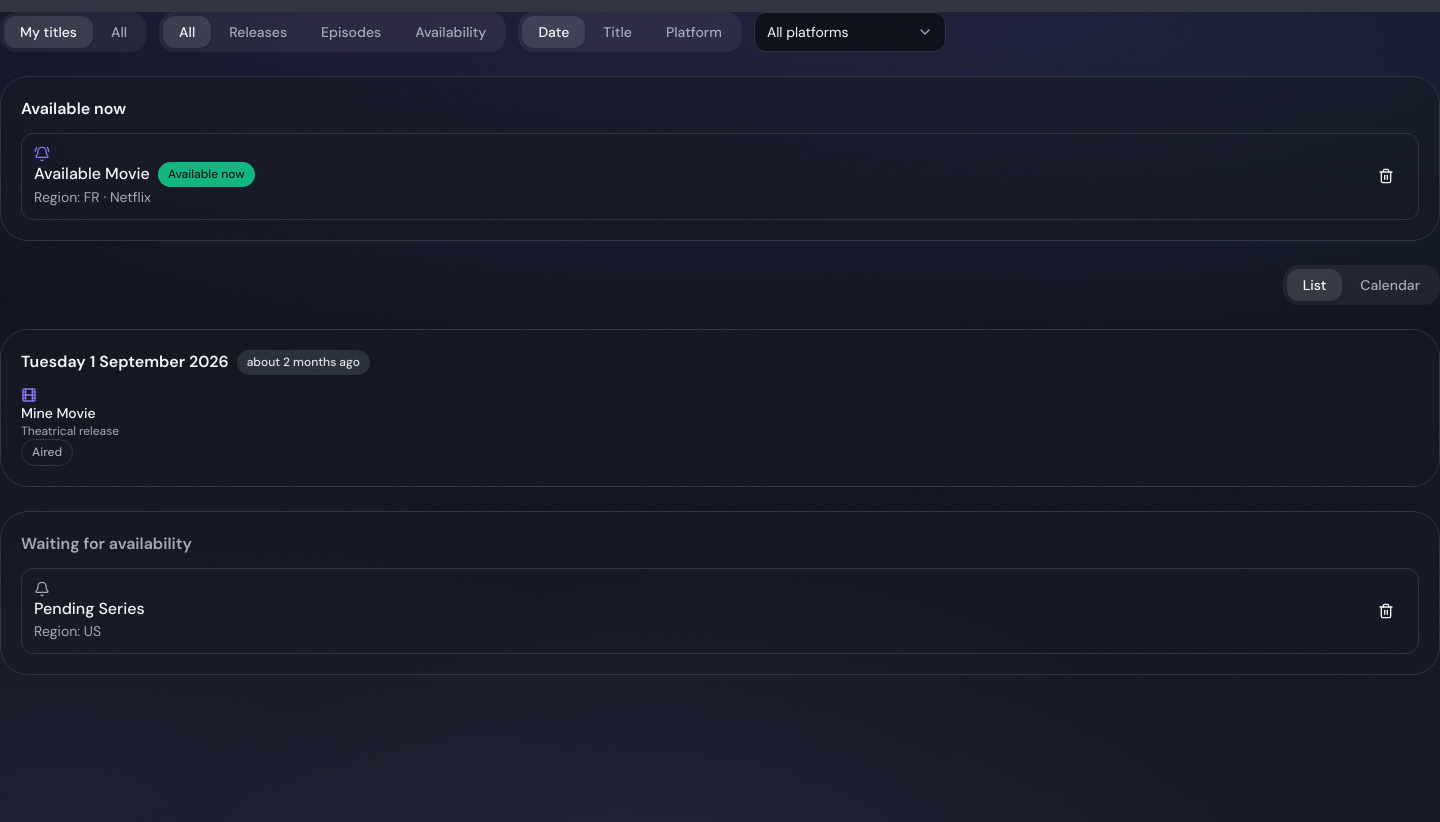
it: TrackingList › groups availability entries into available-now and pending, and dated entries by date
What coordinates should you click on to do the following:
click the 1st button "All"
I would click on:
 (119, 32)
Its box is [95,16,143,48].
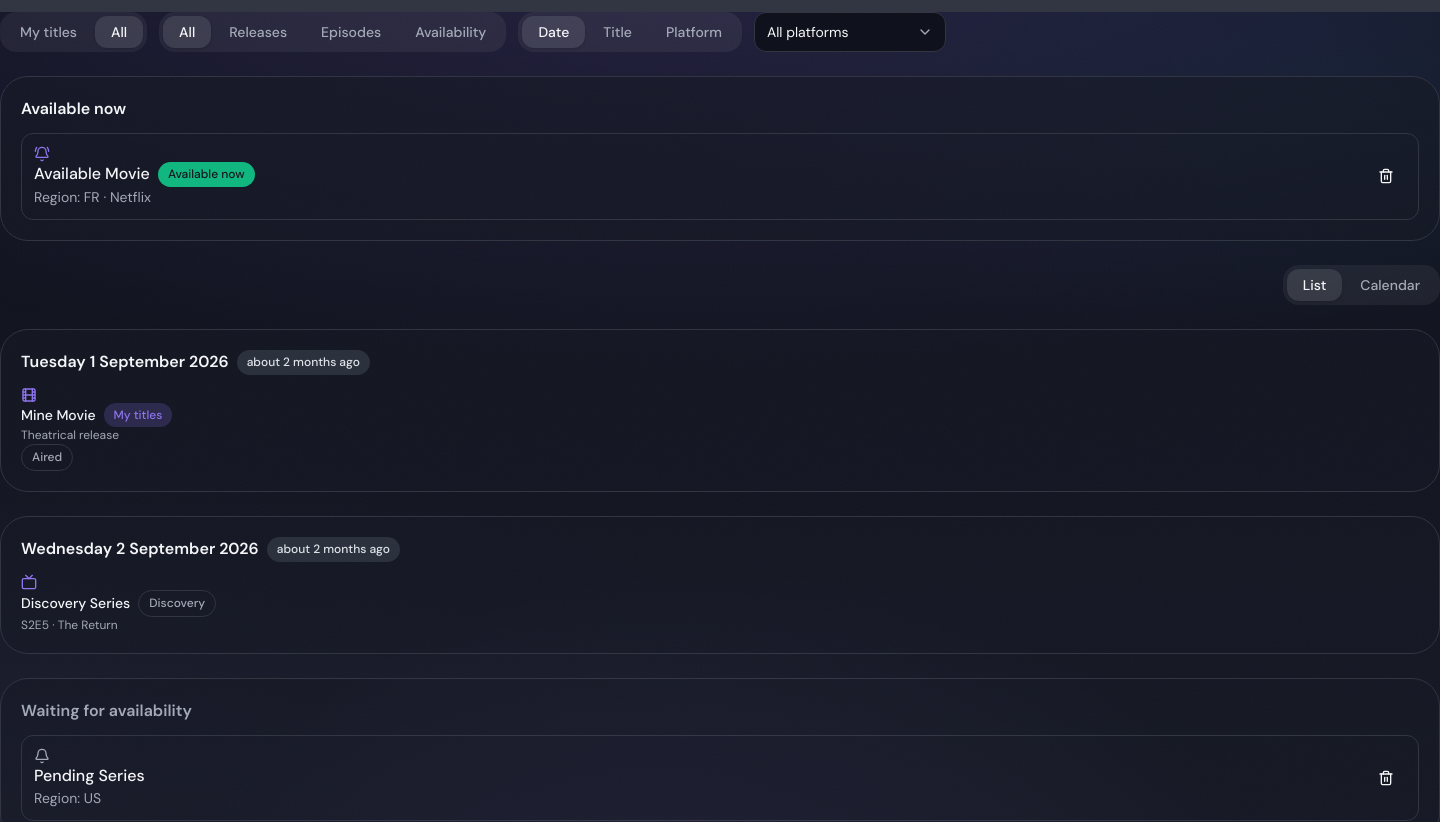
expect the text "Available Movie" is shown: met, box [34,162,150,186]
expect the text "Discovery Series" is shown: met, box [21,593,130,613]
expect the text "S2E5 · The Return" is shown: met, box [21,617,118,633]
